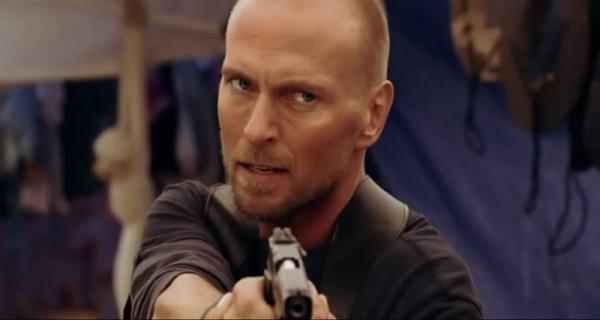Gun: (266, 226, 315, 320)
